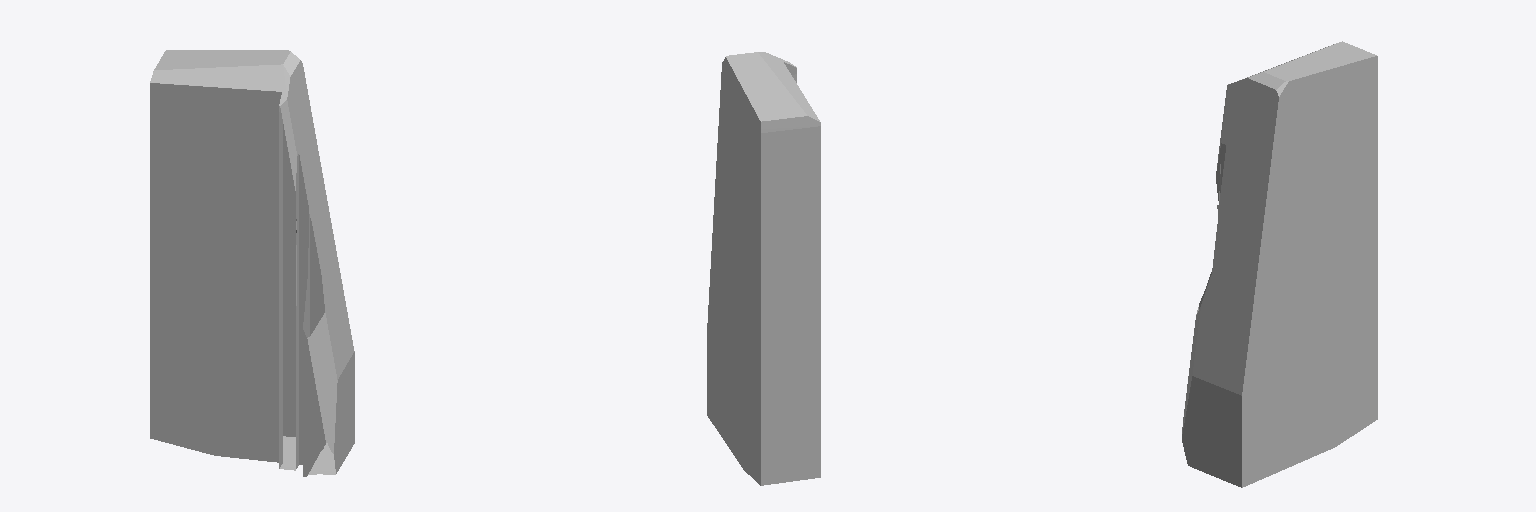
The model's file is li-fang-ti-.001_cell.126.obj.
3 views of the same model, side by side, from view 1: azimuth 30°, elevation 25°; view 2: azimuth 150°, elevation 25°; view 3: azimuth 270°, elevation 25° (orthographic).
Visible parts, largest first — view 1: 立方体.001_cell.126; view 2: 立方体.001_cell.126; view 3: 立方体.001_cell.126.
Boxes of the visible parts, x1,y1,x2,y2 form: 立方体.001_cell.126: [150, 50, 354, 476]; 立方体.001_cell.126: [707, 52, 820, 485]; 立方体.001_cell.126: [1182, 41, 1377, 487].
Size of the model in its own units: 0.8186 by 1.9 by 0.8766.